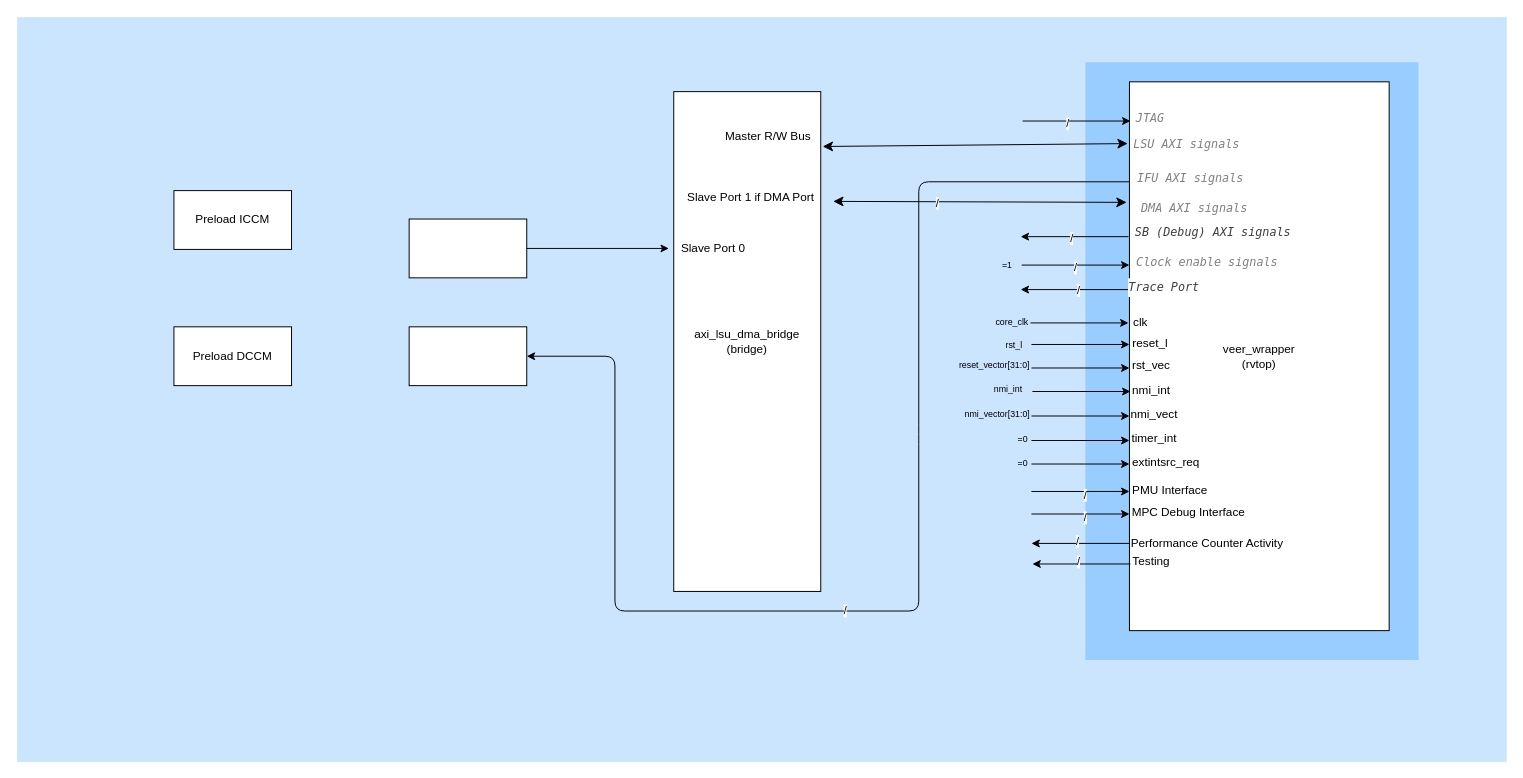
Some shapes in this 1523 by 778 pixel diagram are drawn without their labels. Each missing label, with the centre of its shape:
"axi_slv (imem)" goes at pixel 467 356.
"axi_slv (lmem)" goes at pixel 467 248.
